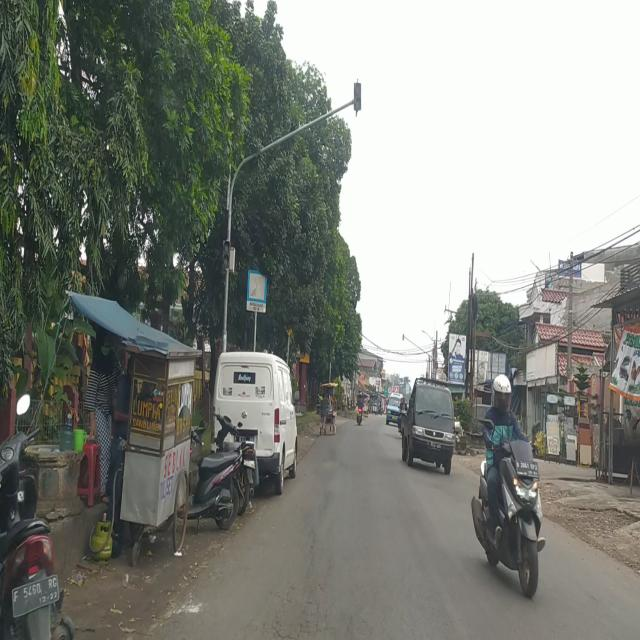Drain Hole: (253, 589, 363, 640)
